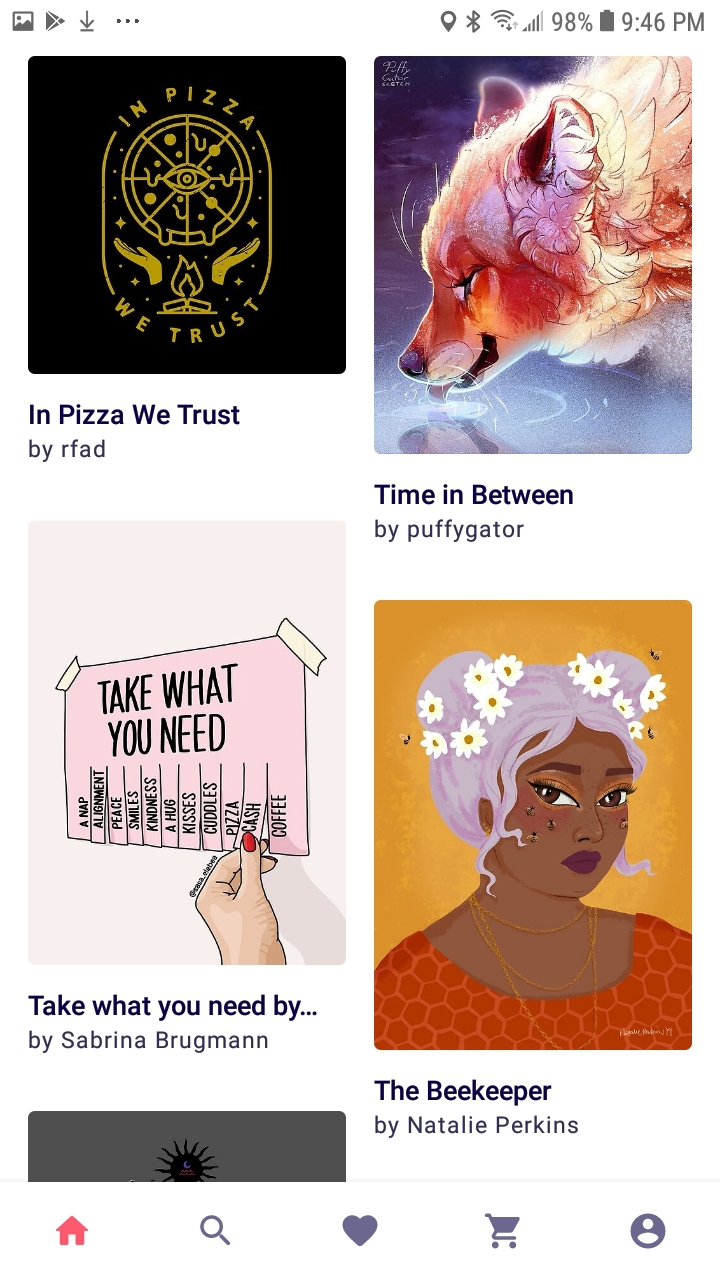Icon: (485, 1212, 521, 1250), (630, 1213, 666, 1250), (342, 1215, 379, 1247), (56, 1216, 90, 1246), (200, 1215, 231, 1246)
Image: (373, 600, 692, 1051), (29, 520, 347, 965), (374, 56, 693, 455), (29, 56, 347, 375), (28, 1111, 347, 1182)
Text: (28, 994, 318, 1022), (29, 1030, 269, 1054), (374, 1079, 552, 1107), (375, 1114, 579, 1138), (30, 403, 242, 426), (374, 484, 574, 506), (374, 519, 524, 544), (29, 439, 107, 463)
UpperTaskBar: (1, 1, 720, 34)
